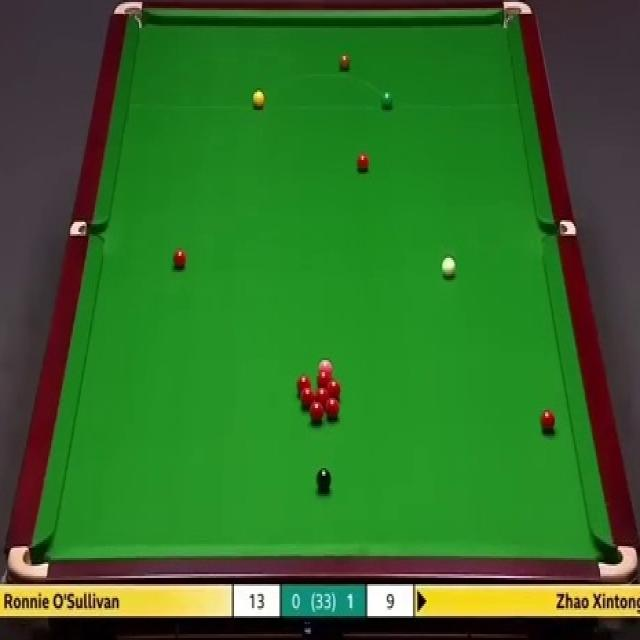pocket: (598, 545, 638, 580), (7, 548, 49, 578), (504, 0, 531, 28), (115, 0, 141, 28), (71, 217, 104, 235), (542, 220, 576, 237)
